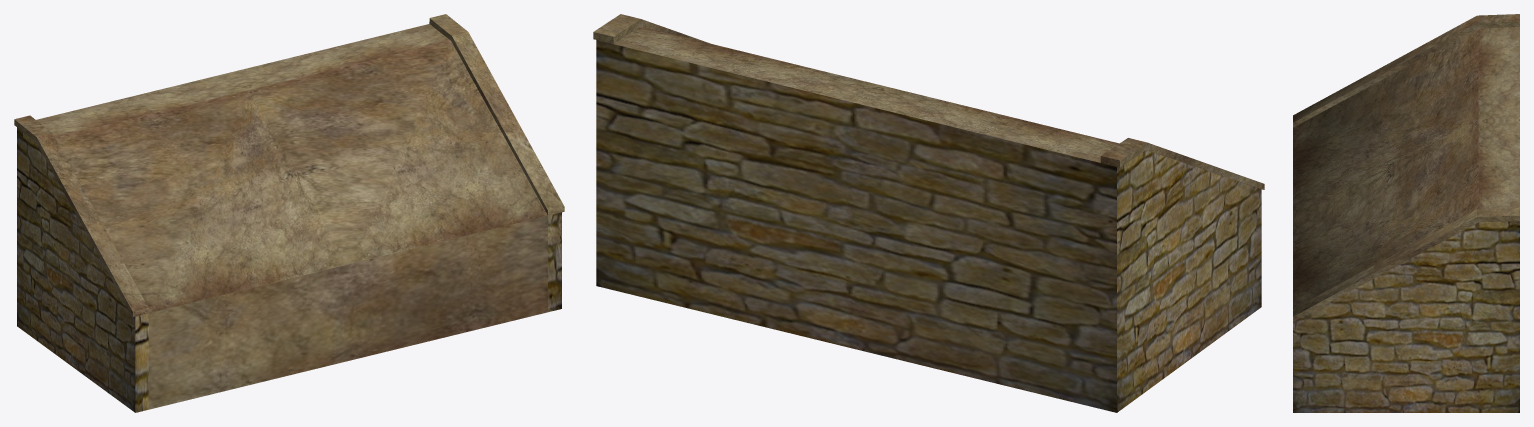
Rendered from stone_ramp_quadruple.fbx.
3 renders of one model, left to right at view 1: azimuth 30°, elevation 25°; view 2: azimuth 150°, elevation 25°; view 3: azimuth 270°, elevation 25°, orthographic. The views are drawn at different scales.
Parts seen in each view (by area): view 1: polySurface6, polySurface5; view 2: polySurface6, polySurface5; view 3: polySurface6, polySurface5.
Boxes of the visible parts, <box> form: polySurface6: <box>36,24,547,312</box>; polySurface5: <box>14,14,564,412</box>; polySurface6: <box>596,26,1118,412</box>; polySurface5: <box>593,14,1264,412</box>; polySurface6: <box>1293,27,1519,308</box>; polySurface5: <box>1293,14,1519,412</box>.
Bounding box in the file's own units: 2343 × 1077 × 1114.
1 material, 1 textured.
